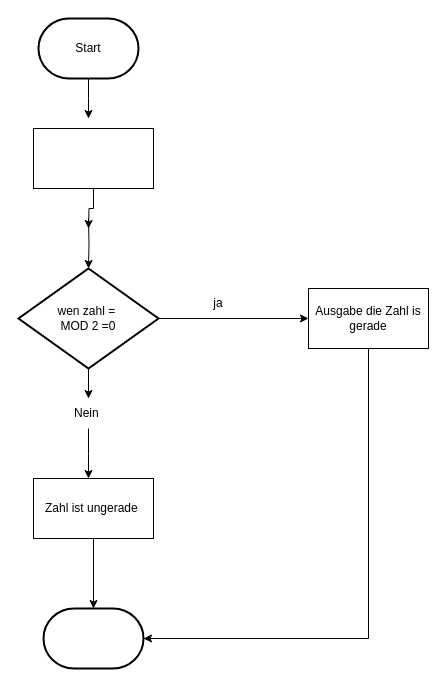
Image size: 446x686. Some labels were removed from this diagram. Here are the shapes that lost their labels. From the top down, the centre of each, then its label:
At (x=93, y=158): "Eingabe: Zahl=".
At (x=93, y=638): "Ende".
